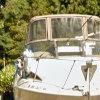Boat: (12, 12, 100, 100)
